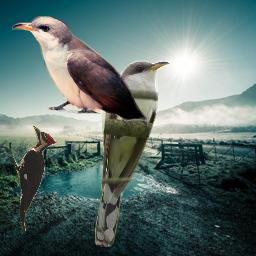Cuckoo: (12, 16, 147, 121), (95, 60, 170, 247)
Woodpecker: (8, 125, 57, 232)
